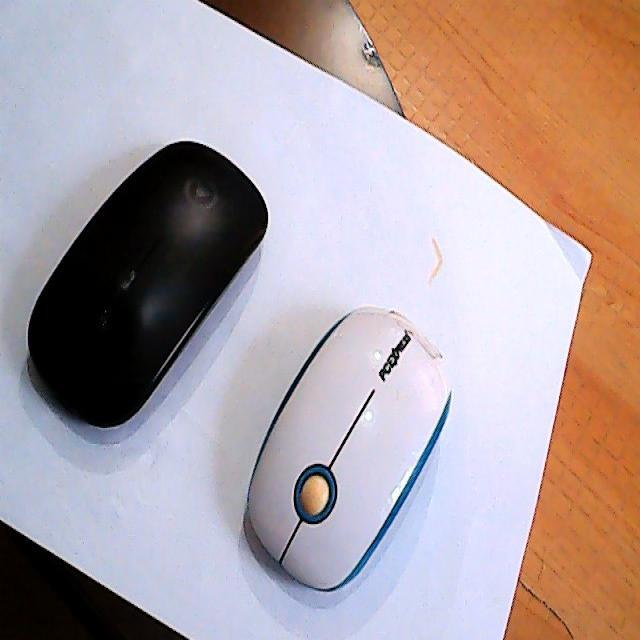-keyboard-: (28, 136, 268, 428)
-laptop-: (245, 303, 453, 592)
